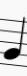note: (3, 12, 26, 70)
